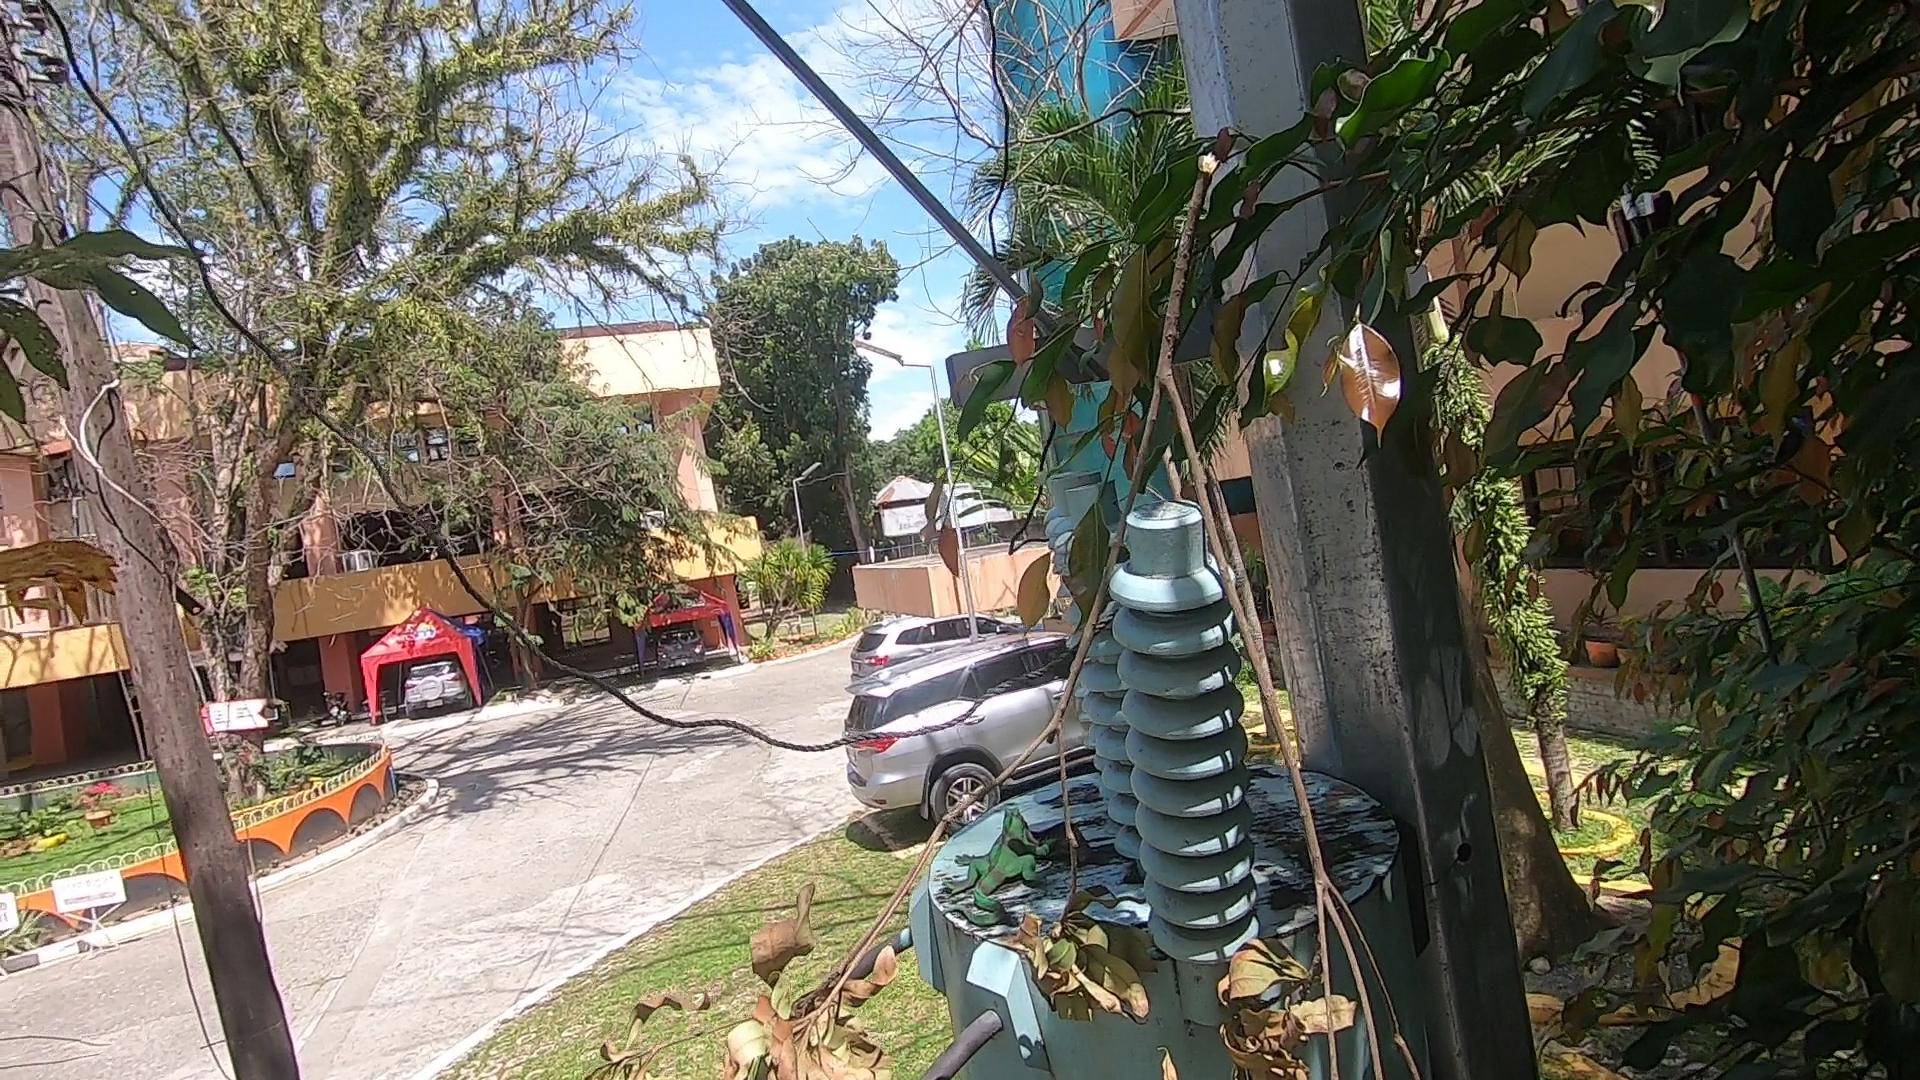branch with leaves: (547, 156, 1431, 1077)
leaf: (1036, 819, 1100, 870)
